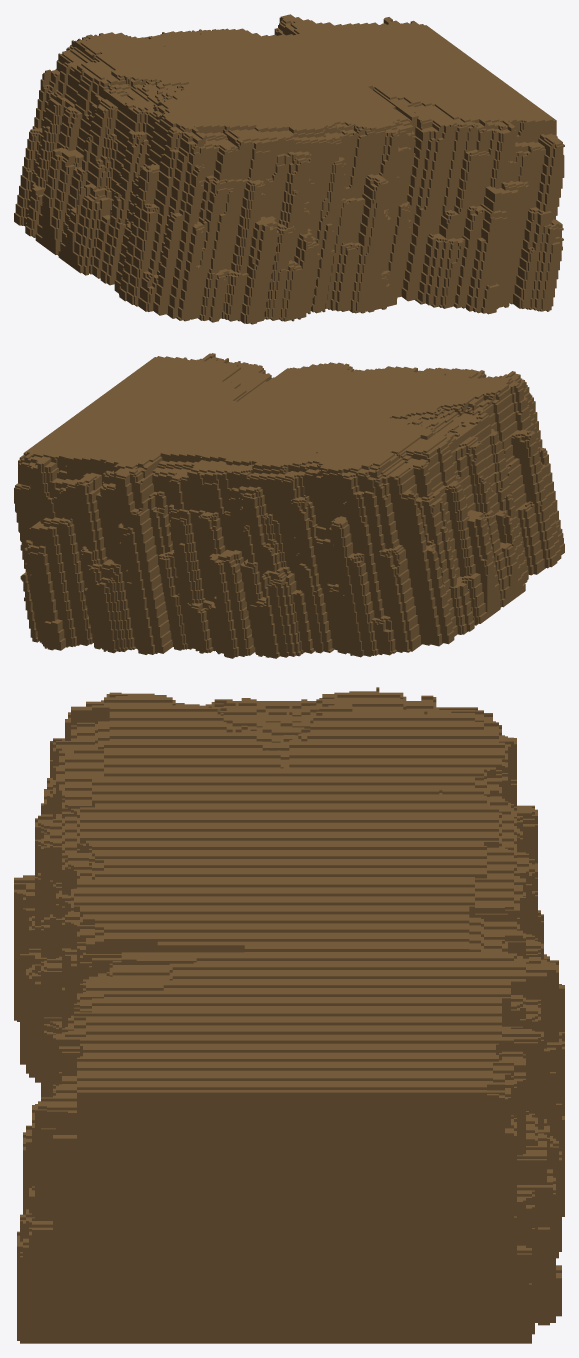
Rendered from forest1.2-132.obj.
The picture shows the model from 3 angles, top to bottom: view 1: azimuth 30°, elevation 25°; view 2: azimuth 150°, elevation 25°; view 3: azimuth 270°, elevation 25°; orthographic projection. The views are drawn at different scales.
Bounding box in the file's own units: 25.6 × 14.2 × 18.4.
Materials: 1 (1 with a texture image).
